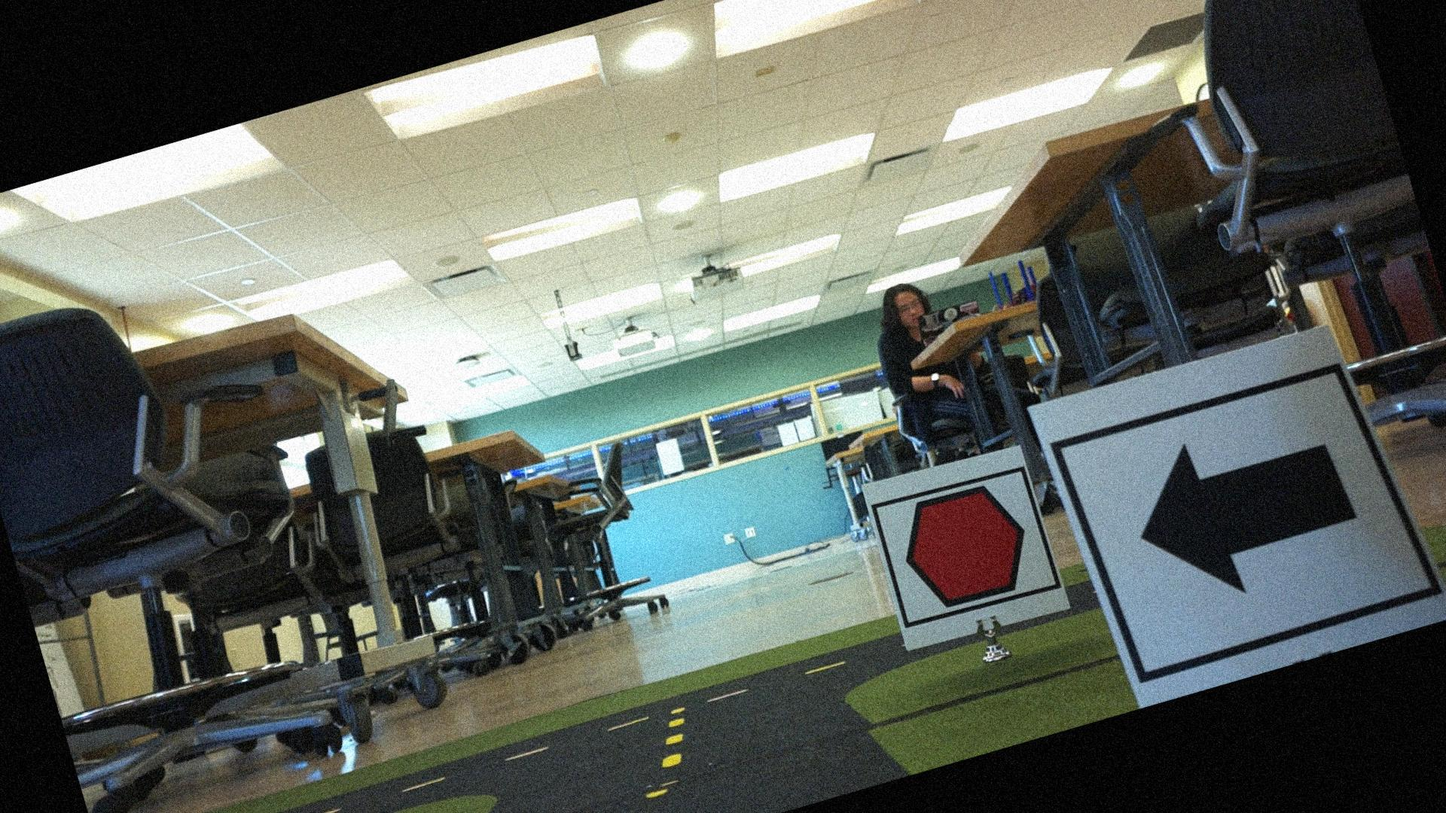stop: (868, 464, 1057, 631)
turnright: (1082, 367, 1408, 674)
yellowline: (606, 713, 715, 812)
